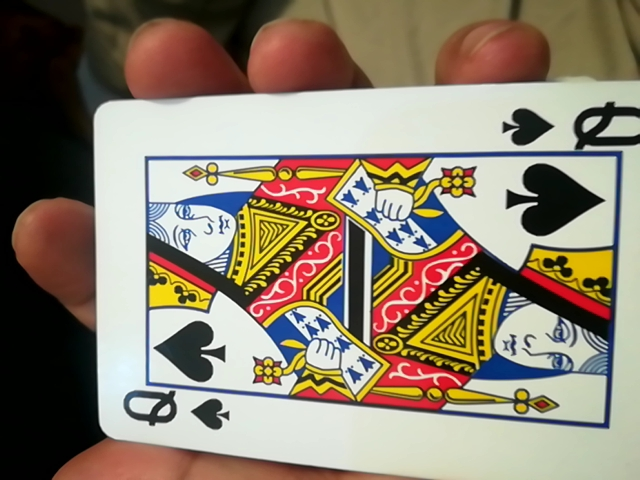ht q: (77, 79, 632, 479)
